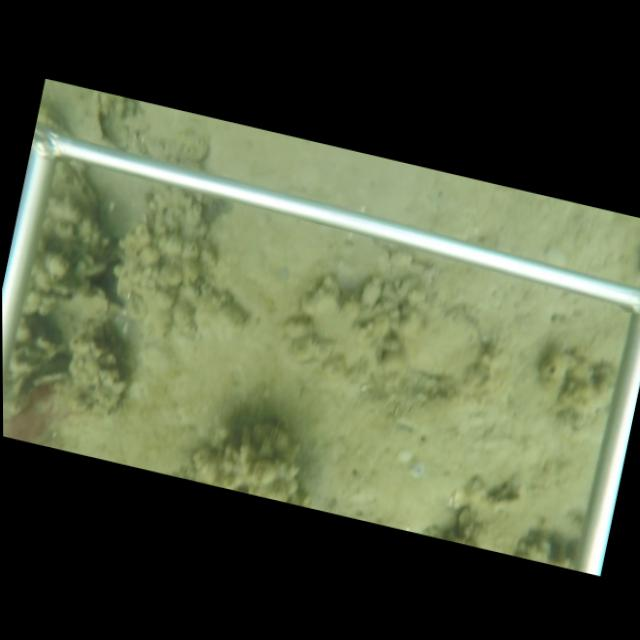Oyster-Indeterminate: (398, 302, 488, 379)
